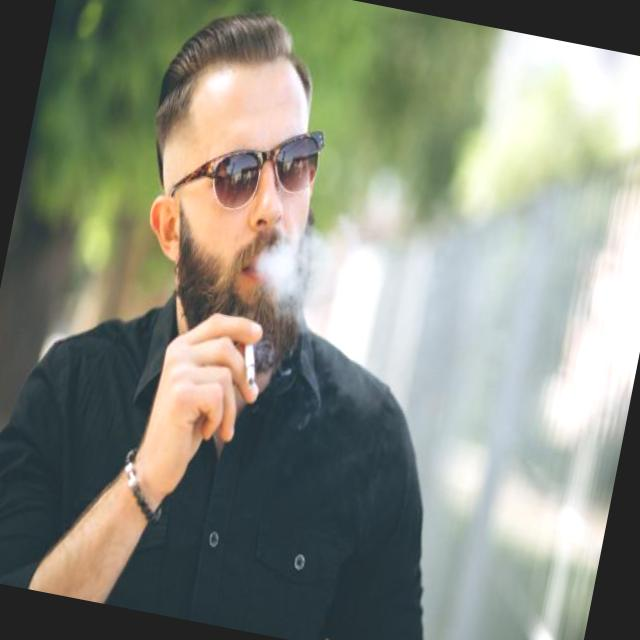cigarette: (220, 319, 283, 424)
